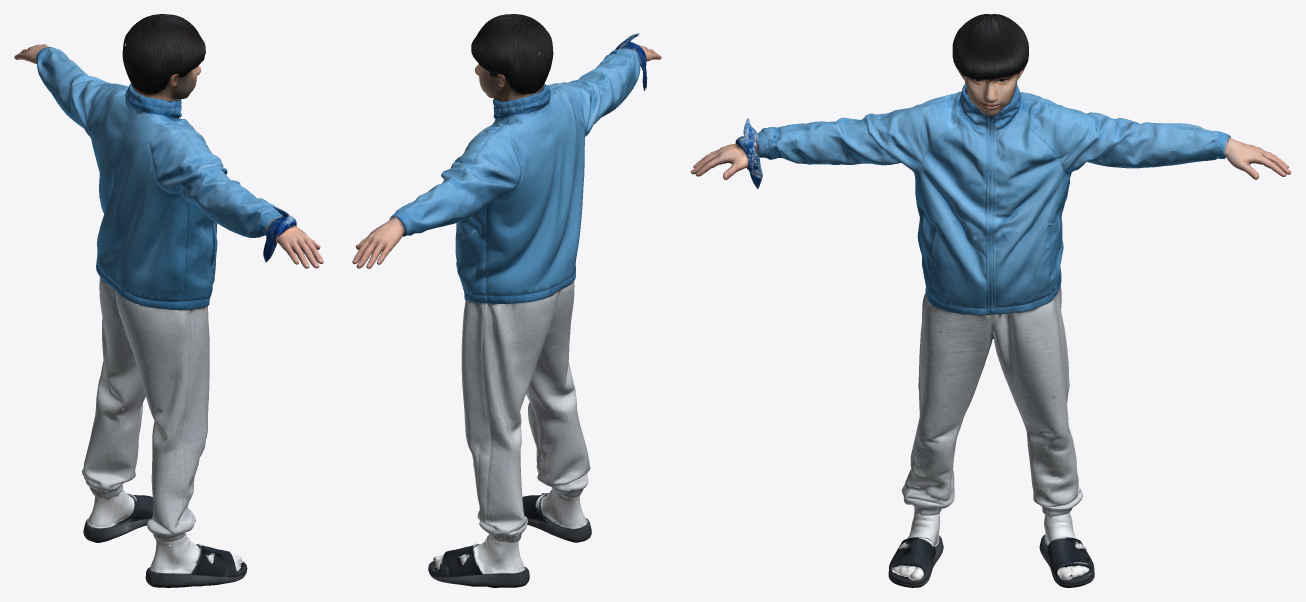
File: master.glb
The picture shows the model from 3 angles, left to right: view 1: azimuth 30°, elevation 25°; view 2: azimuth 150°, elevation 25°; view 3: azimuth 270°, elevation 25°; orthographic projection. The views are drawn at different scales.
Visible parts, largest first — view 1: w_tp_lantern_sport; view 2: w_tp_lantern_sport; view 3: w_tp_lantern_sport.
Part boxes in pixels (left/top/right/bottom): w_tp_lantern_sport: left=14, top=14, right=323, bottom=587; w_tp_lantern_sport: left=352, top=14, right=661, bottom=587; w_tp_lantern_sport: left=690, top=14, right=1291, bottom=587.
Bounding box in the file's own units: 0.3292 × 1.75 × 1.73.
1 material, 1 textured.
